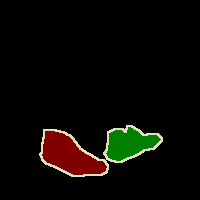shoe: (40, 130, 108, 176), (104, 125, 162, 162)
